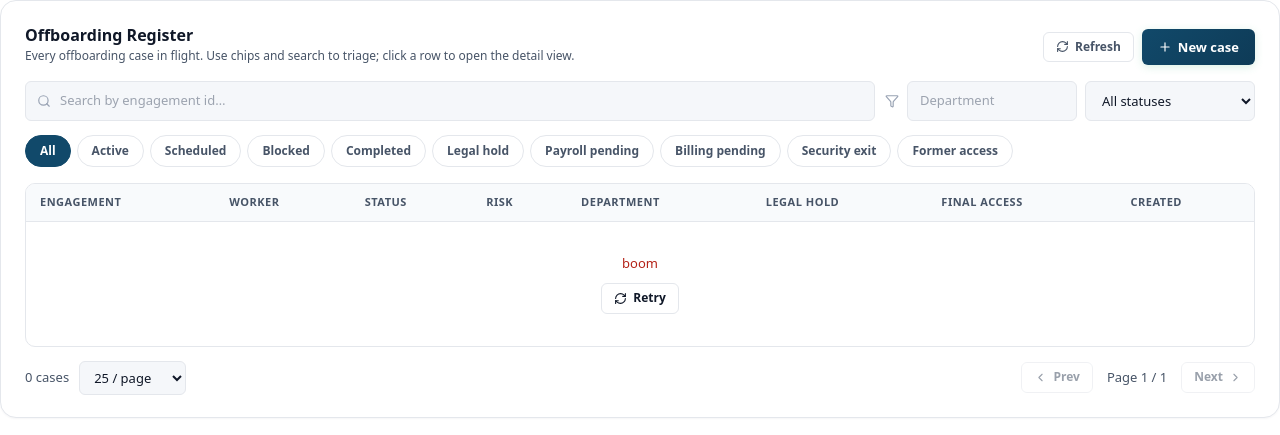
Test: Offboarding Register workflow › shows an error message AND a Retry button when the API fails
The width and height of the screenshot is (1280, 435).
Expected: the message shows "boom", [622,254,658,272]
Click the button with aria-label "retry loading cases" at {"x": 640, "y": 298}, box [601,283,679,314]
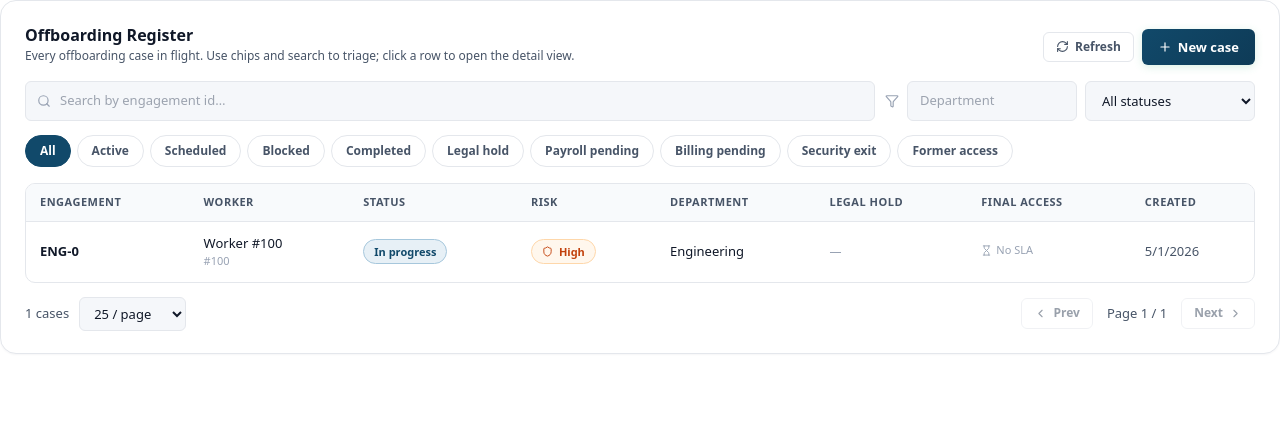
Expected: the text "ENG-0" is shown, [26,221,190,282]
